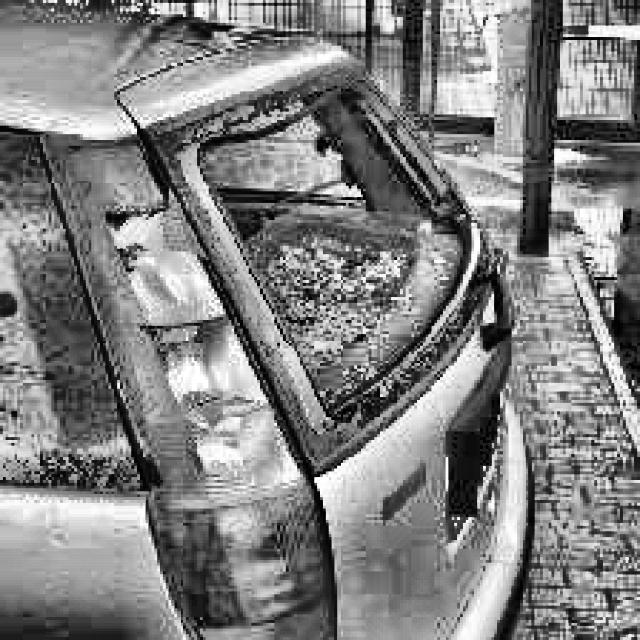glass_shatter: (209, 108, 435, 353)
